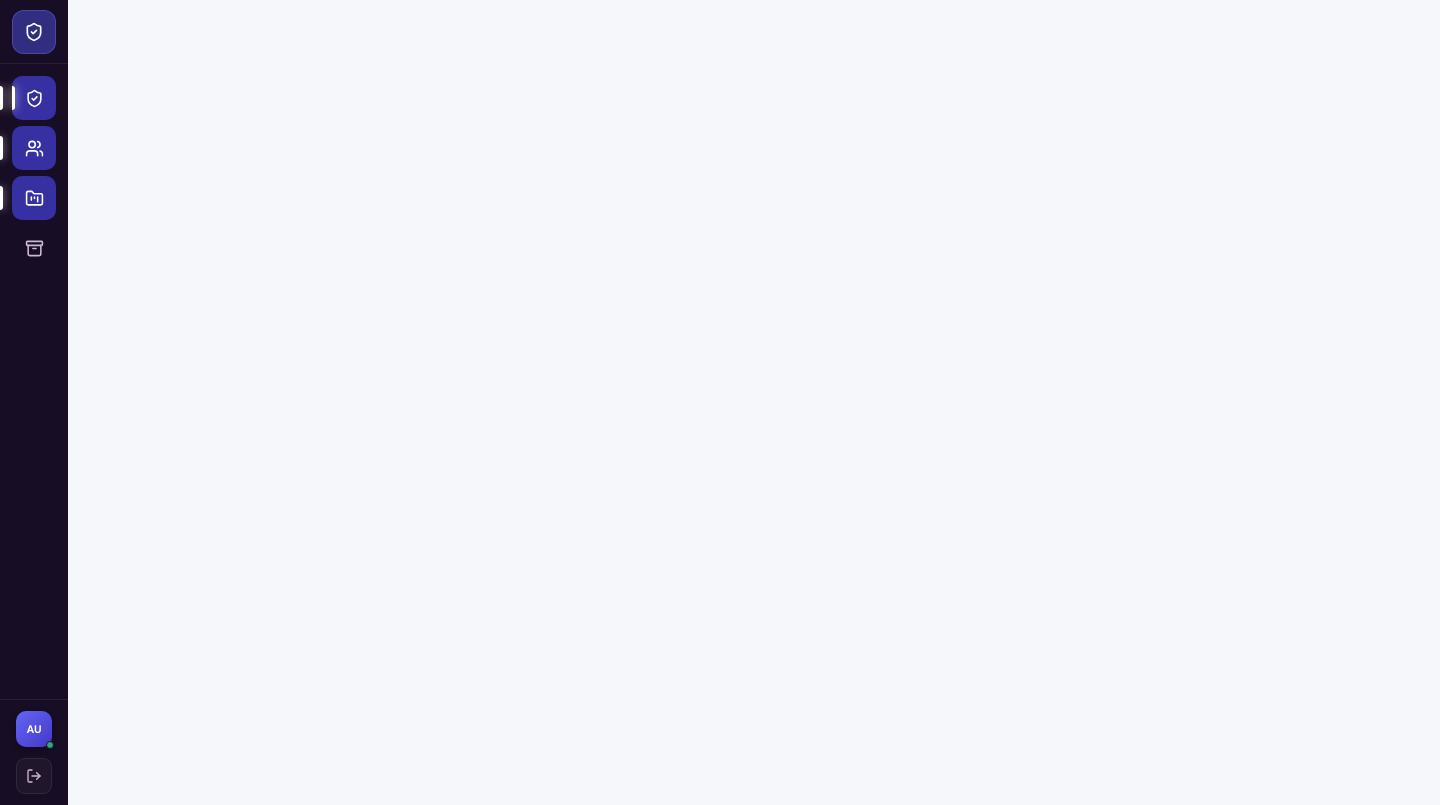
Test: Admin area › admin sidebar opens All Workspaces
Click the link named "All Workspaces" at (34,198), box [12, 176, 56, 220]
(page scrolled)
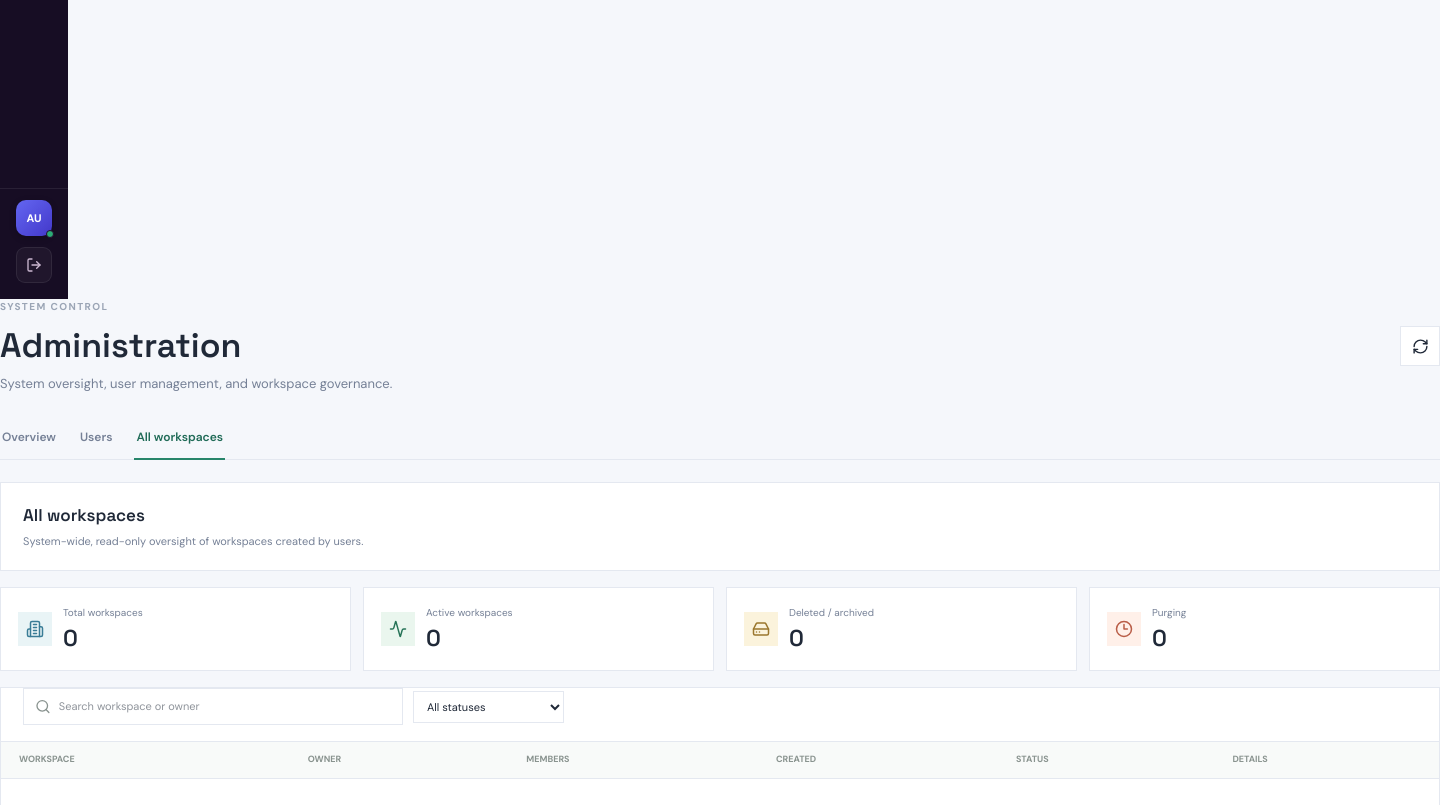
Now the heading "All workspaces" is shown, box [23, 504, 145, 526]
